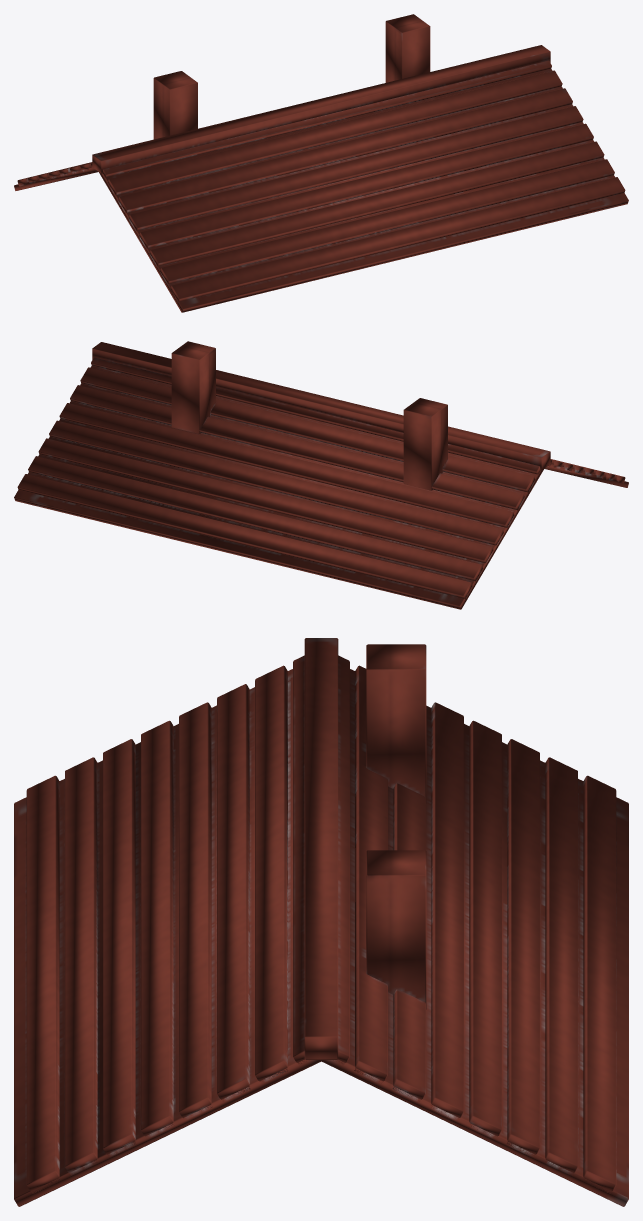
Rendered from Edificio_ViejoTecho.fbx.
3 renders of one model, top to bottom at view 1: azimuth 30°, elevation 25°; view 2: azimuth 150°, elevation 25°; view 3: azimuth 270°, elevation 25°, orthographic. The views are drawn at different scales.
Visible parts, largest first — view 1: Edificio_ViejoTecho; view 2: Edificio_ViejoTecho; view 3: Edificio_ViejoTecho.
Part boxes in pixels (x1=…): Edificio_ViejoTecho: x1=14, y1=14, x2=628, y2=312; Edificio_ViejoTecho: x1=14, y1=341, x2=628, y2=609; Edificio_ViejoTecho: x1=14, y1=638, x2=628, y2=1206.
Size of the model in its own units: 25.2 by 7.12 by 16.41.
